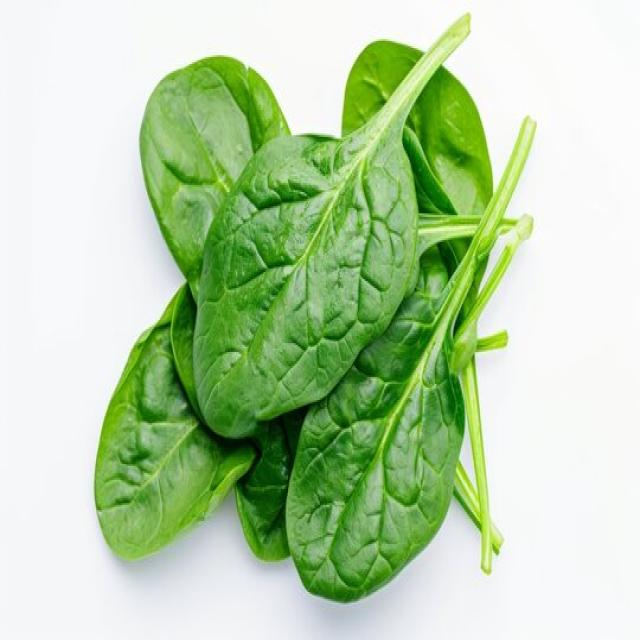Cabbage: (138, 54, 292, 302)
Spinach: (92, 11, 536, 604)
